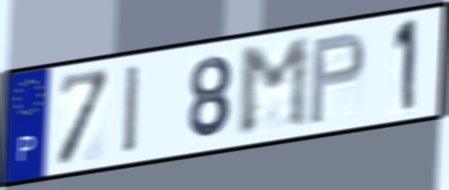1: (390, 15, 422, 117)
7: (57, 65, 112, 169)
8: (187, 54, 234, 141)
I: (122, 61, 143, 158)
M: (236, 34, 312, 140)
P: (307, 29, 369, 128)
